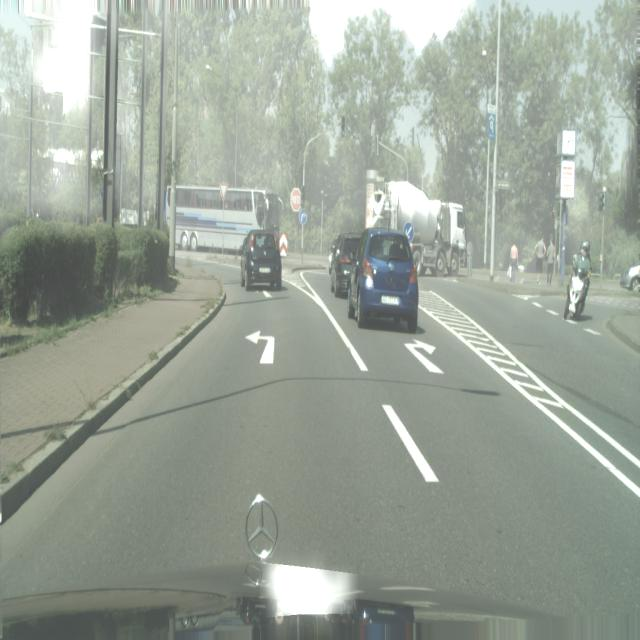bus: (566, 240, 593, 321)
motorcycle: (165, 184, 283, 255)
person: (535, 234, 546, 284), (546, 235, 555, 286), (508, 241, 518, 282)
rider: (367, 179, 465, 277)
truck: (347, 228, 419, 332), (238, 229, 282, 291), (330, 233, 361, 297), (620, 263, 640, 293)
